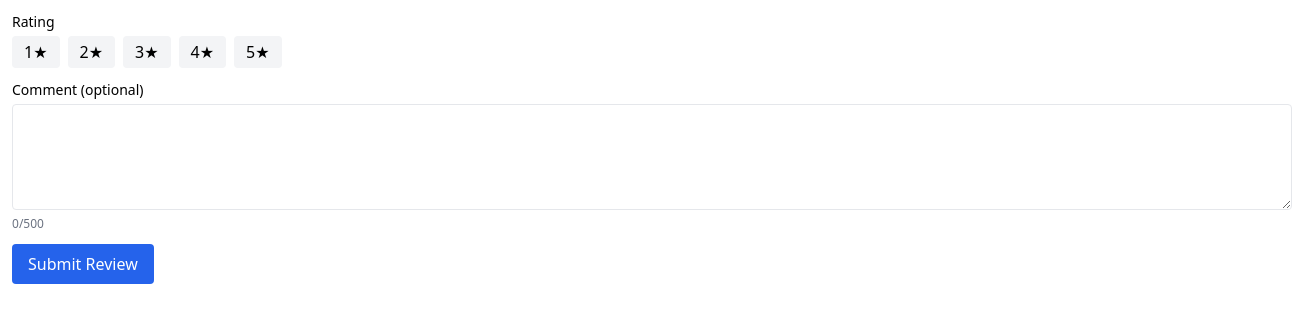
Test: ReviewForm validation › shows error when no rating selected
Step 1. Click the button "Submit Review" → coordinates (83, 264), box [12,244,154,284]
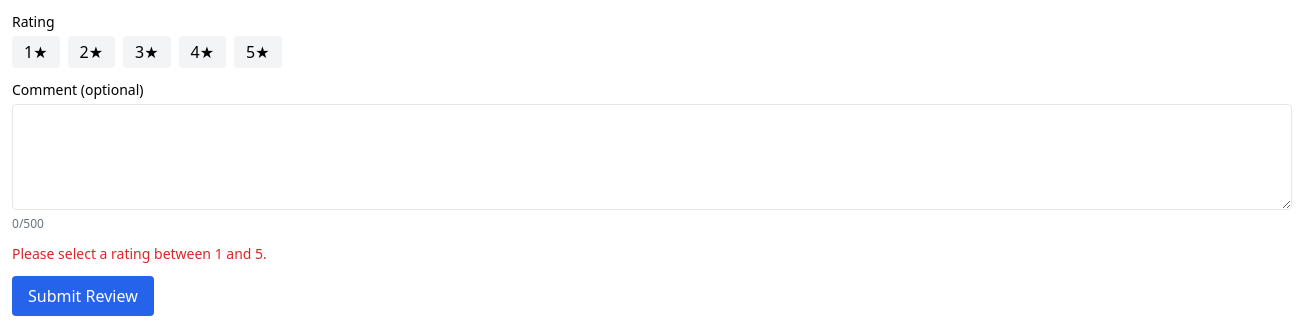
Result: the text "Please select a rating between 1 and 5." is shown at [12,244,267,263]
